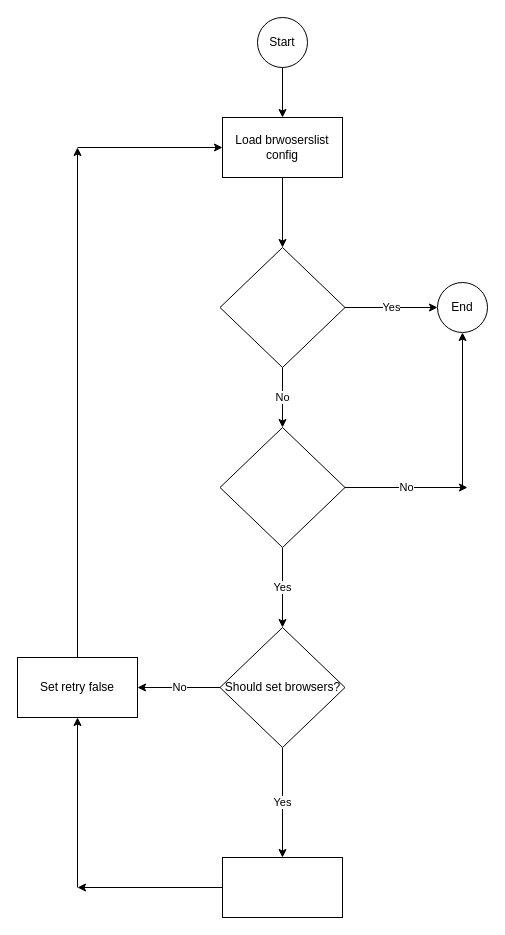
Some shapes in this 505 by 935 pixel diagram are drawn without their labels. The box of each missing label's shape, as (x1, y1, x2, y2) in pixels:
Browserlist config exist?: (219, 246, 345, 368)
Can retry?: (219, 426, 345, 548)
Write default browsers into package.json: (222, 856, 342, 918)
